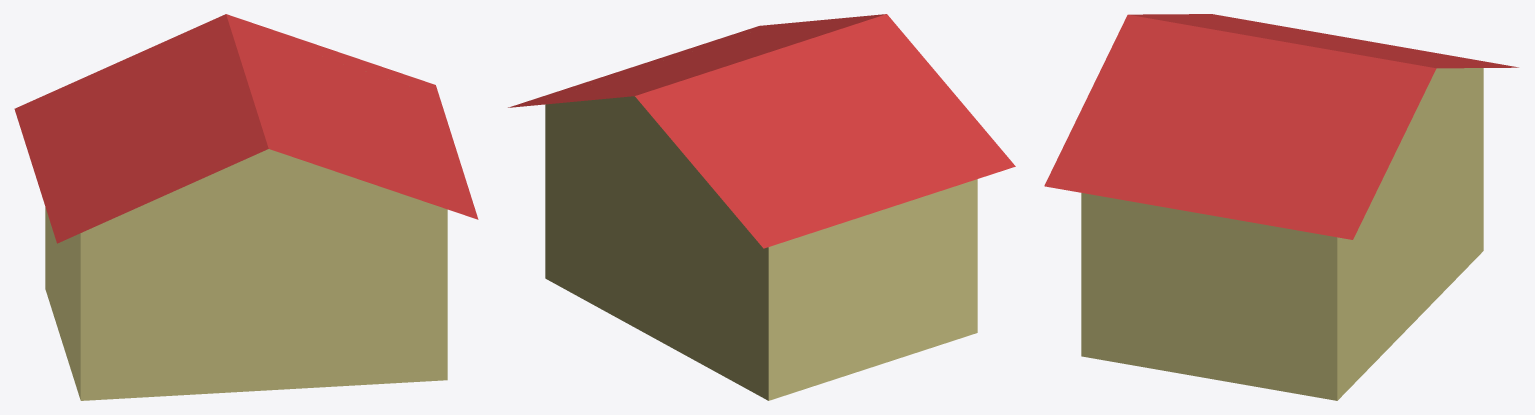
3 views of the same model, side by side, from view 1: azimuth 30°, elevation 25°; view 2: azimuth 150°, elevation 25°; view 3: azimuth 270°, elevation 25° (orthographic). The views are drawn at different scales.
Size of the model in its own units: 18.72 by 16.68 by 10.14.
